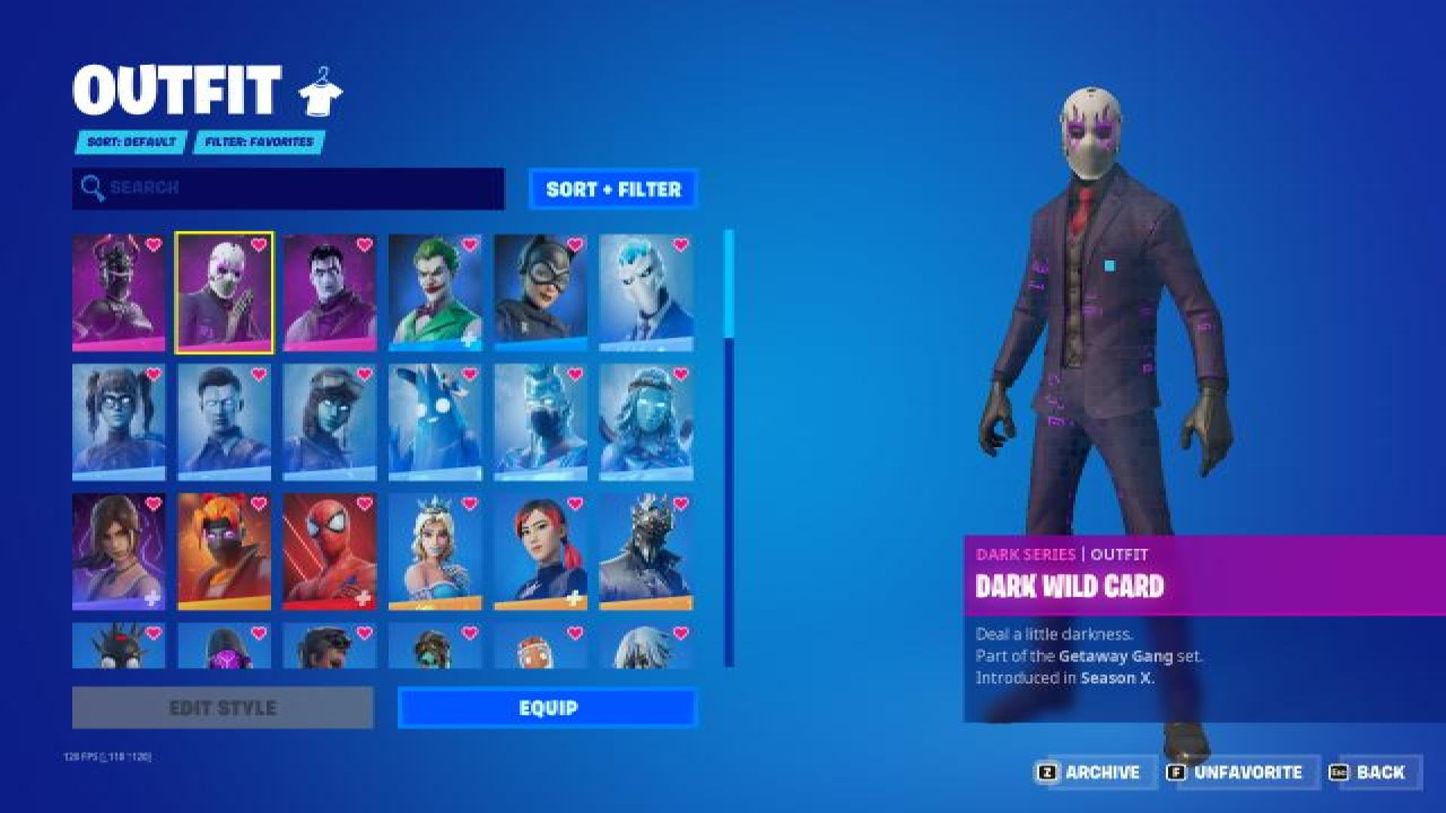player: (949, 83, 1238, 780)
